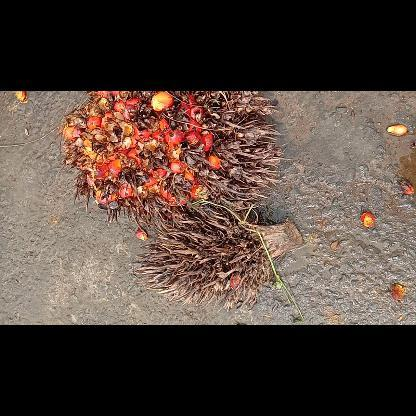Janjang kosong: (131, 211, 303, 311)
Terlalu masak: (55, 91, 289, 233)
